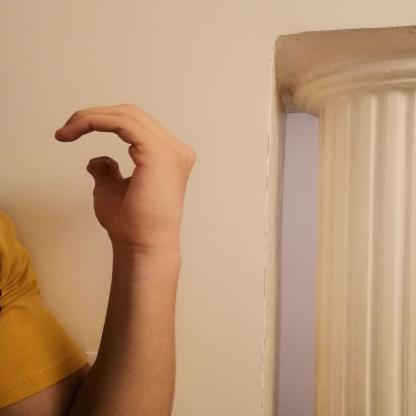JEEM: (34, 93, 215, 262)
